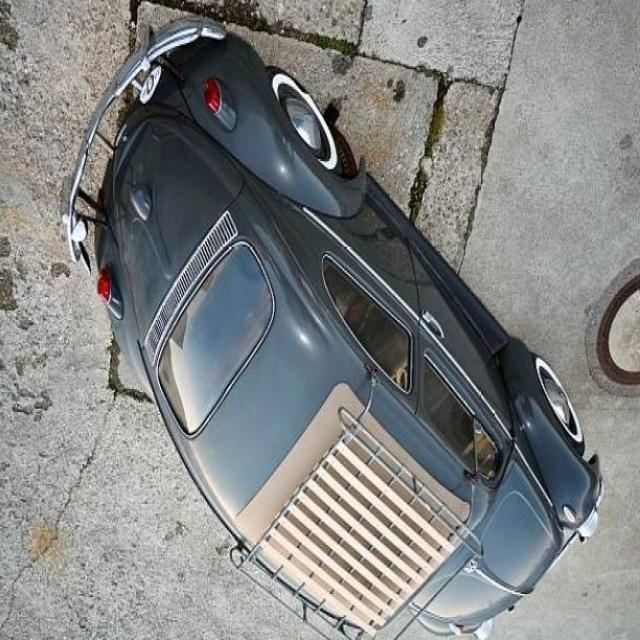car: (90, 48, 596, 636)
